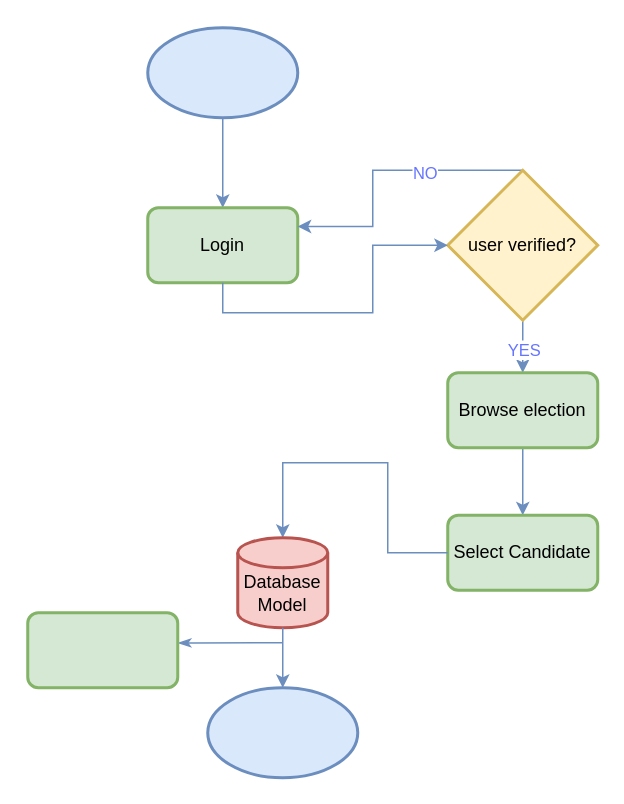
Some shapes in this 624 by 804 pixel diagram are drawn without their labels. Here are the shapes that lost their labels. From the top down, the centre of each, then its label:
(x=222, y=72): Start
(x=102, y=649): Display confirmation message
(x=282, y=732): Stop
